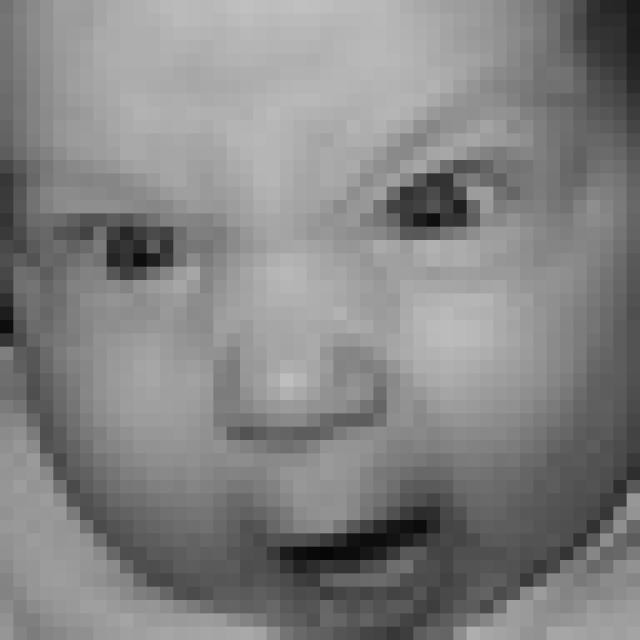angry: (37, 116, 556, 622)
